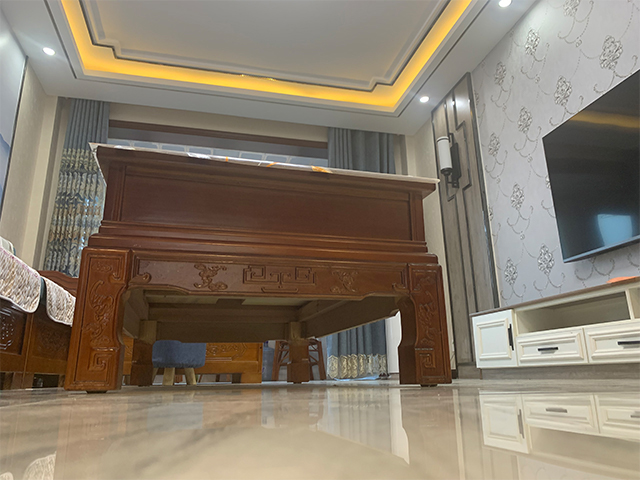cabinet: (468, 274, 640, 382)
curtain: (325, 126, 392, 379)
sofa: (1, 237, 77, 391)
stool: (151, 340, 206, 386)
table: (62, 145, 453, 395)
